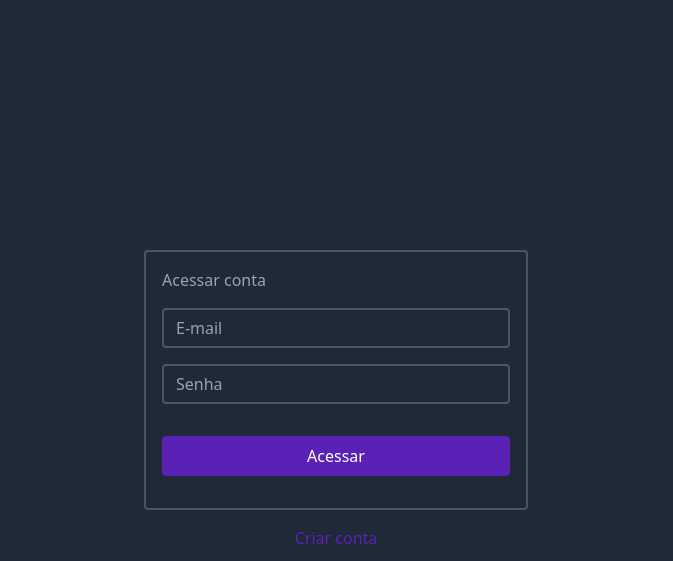
SignIn Page › should be be able to redirect after success login
The image size is (673, 561).
Type "user@test.com" into the field with placeholder "E-mail". click: x=336, y=328
box: x1=162 y1=308 x2=510 y2=348
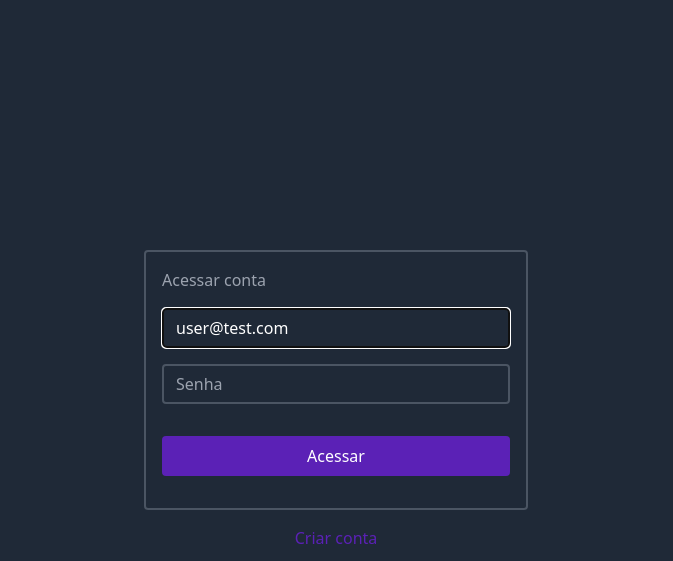
Type "1234567" into the field with placeholder "Senha". click: x=336, y=384
box: x1=162 y1=364 x2=510 y2=404
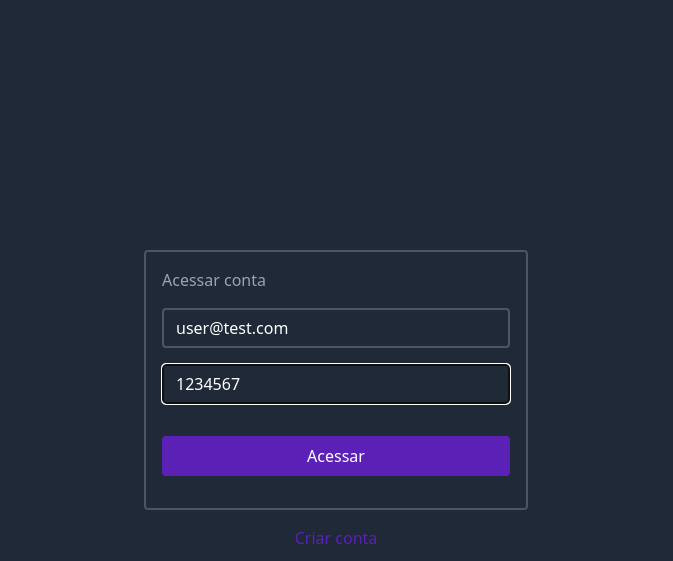
Submit the form, box x1=144 y1=250 x2=528 y2=510
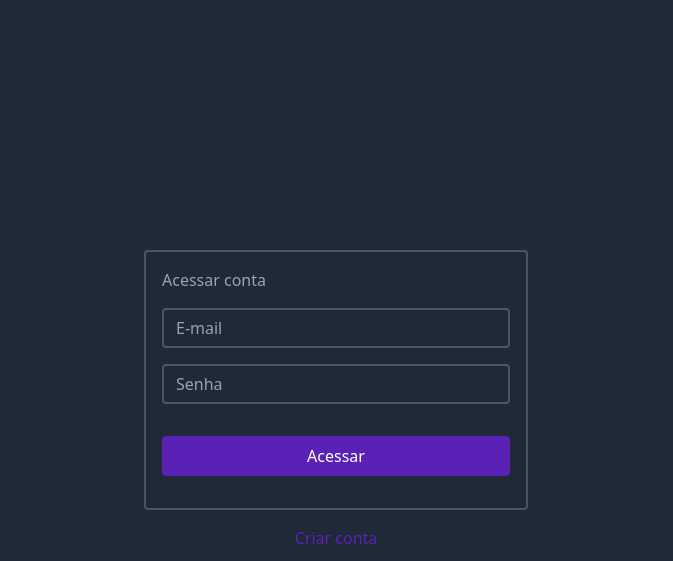
Open "dashboard"
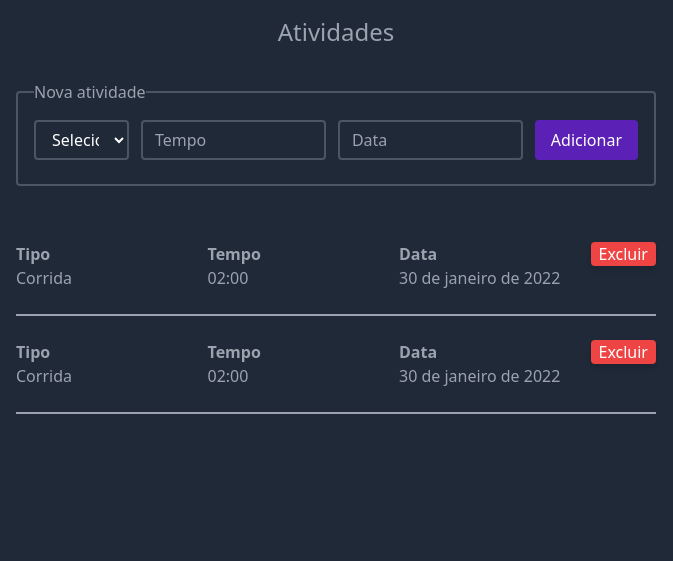
expect the heading "Atividades" is shown: met, box x1=278 y1=16 x2=394 y2=48
